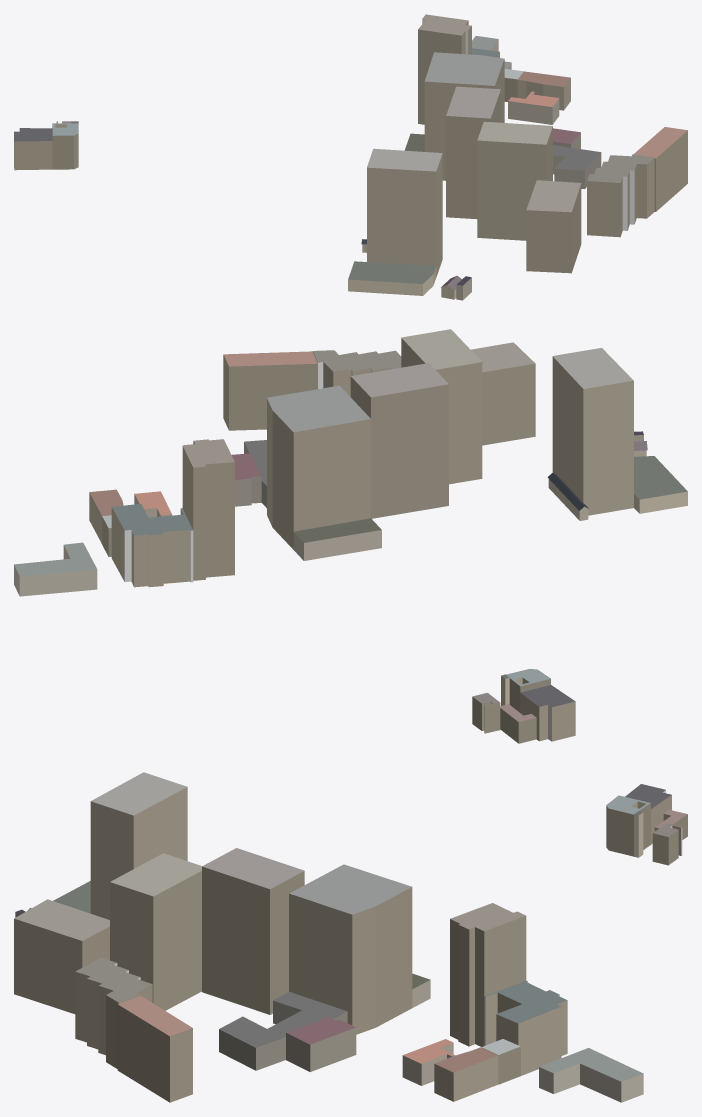
3 views of the same model, one above another, from view 1: azimuth 30°, elevation 25°; view 2: azimuth 150°, elevation 25°; view 3: azimuth 270°, elevation 25° (orthographic). The views are drawn at different scales.
Visible parts, largest first — view 1: tuile; view 2: tuile; view 3: tuile.
Part boxes in pixels (x1,y1,x2,y2): tuile: (14,14,687,300); tuile: (14,329,687,743); tuile: (14,772,687,1102).
Bounding box in the file's own units: 256 × 56.96 × 249.
